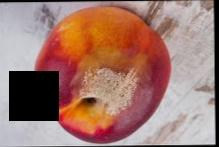rotten apple: (30, 5, 188, 144)
